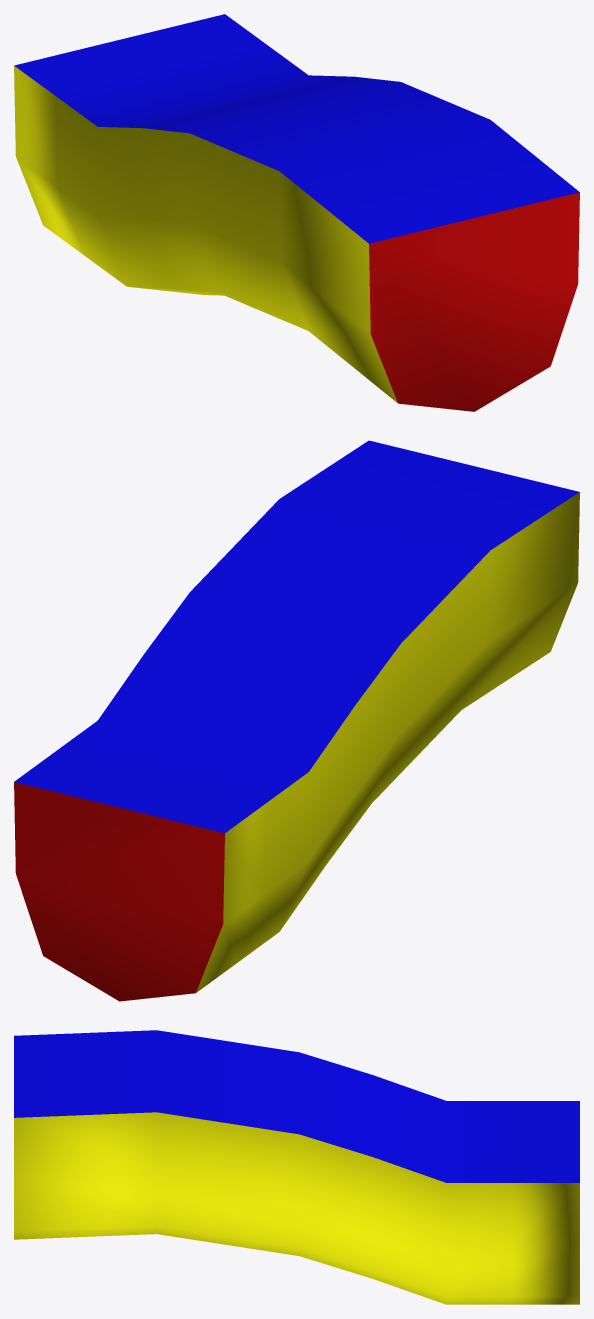
The picture shows the model from 3 angles, top to bottom: view 1: azimuth 30°, elevation 25°; view 2: azimuth 150°, elevation 25°; view 3: azimuth 270°, elevation 25°; orthographic projection. The views are drawn at different scales.
Parts seen in each view (by area): view 1: polySurface126; view 2: polySurface126; view 3: polySurface126.
Boxes of the visible parts, x1,y1,x2,y2 form: polySurface126: (14, 14, 579, 411); polySurface126: (14, 440, 579, 1001); polySurface126: (14, 1030, 579, 1304).
Size of the model in its own units: 23.58 by 30.16 by 68.69.
